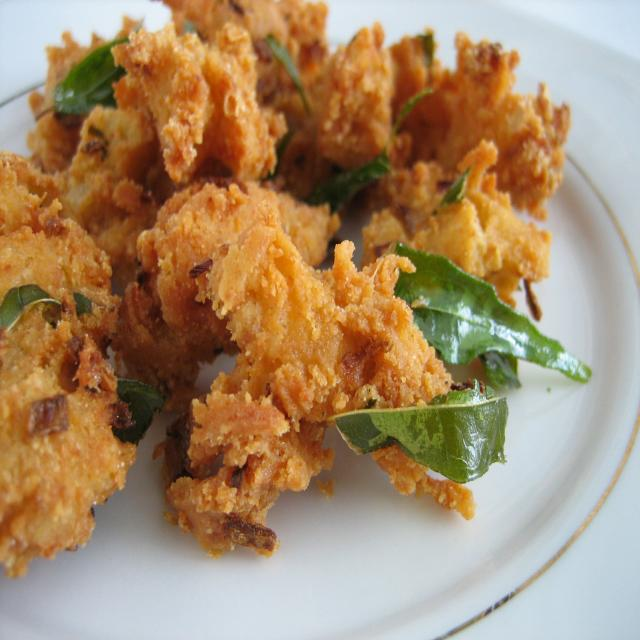Onion Pakora: (0, 0, 573, 583)
